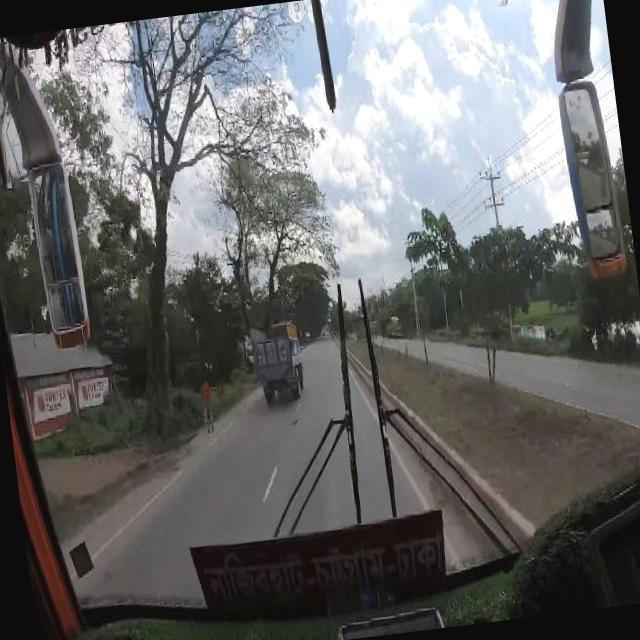truck: (244, 316, 306, 400)
